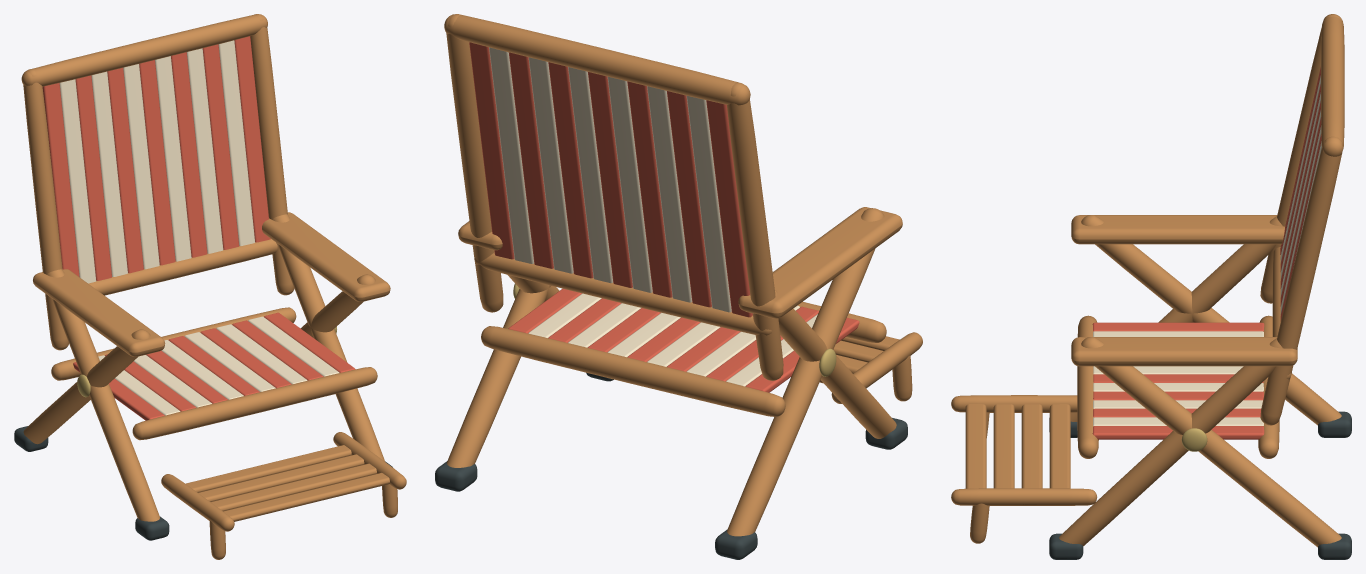
File: beachLounge.glb
3 views of the same model, side by side, from view 1: azimuth 30°, elevation 25°; view 2: azimuth 150°, elevation 25°; view 3: azimuth 270°, elevation 25° (orthographic). The views are drawn at different scales.
Visible parts, largest first — view 1: Prop_beachLounge_Zyra_BeachChair_Teak, Prop_beachLounge_Zyra_BeachChair_CanvasCoral, Prop_beachLounge_Zyra_BeachChair_CanvasCream, Prop_beachLounge_Zyra_BeachChair_Feet; view 2: Prop_beachLounge_Zyra_BeachChair_Teak, Prop_beachLounge_Zyra_BeachChair_CanvasCoral, Prop_beachLounge_Zyra_BeachChair_CanvasCream, Prop_beachLounge_Zyra_BeachChair_Feet; view 3: Prop_beachLounge_Zyra_BeachChair_Teak, Prop_beachLounge_Zyra_BeachChair_CanvasCoral, Prop_beachLounge_Zyra_BeachChair_CanvasCream, Prop_beachLounge_Zyra_BeachChair_Feet, Prop_beachLounge_Zyra_BeachChair_Brass.
Part boxes in pixels (bbox=[...]): Prop_beachLounge_Zyra_BeachChair_Teak: bbox=[21, 14, 406, 559]; Prop_beachLounge_Zyra_BeachChair_CanvasCoral: bbox=[42, 36, 355, 420]; Prop_beachLounge_Zyra_BeachChair_CanvasCream: bbox=[59, 40, 339, 415]; Prop_beachLounge_Zyra_BeachChair_Feet: bbox=[14, 426, 392, 540]; Prop_beachLounge_Zyra_BeachChair_Teak: bbox=[444, 14, 922, 536]; Prop_beachLounge_Zyra_BeachChair_CanvasCoral: bbox=[469, 42, 859, 392]; Prop_beachLounge_Zyra_BeachChair_CanvasCream: bbox=[489, 47, 817, 386]; Prop_beachLounge_Zyra_BeachChair_Feet: bbox=[435, 372, 907, 559]; Prop_beachLounge_Zyra_BeachChair_Teak: bbox=[951, 14, 1344, 547]; Prop_beachLounge_Zyra_BeachChair_CanvasCoral: bbox=[1092, 67, 1321, 439]; Prop_beachLounge_Zyra_BeachChair_CanvasCream: bbox=[1093, 75, 1321, 425]; Prop_beachLounge_Zyra_BeachChair_Feet: bbox=[1049, 411, 1351, 559]; Prop_beachLounge_Zyra_BeachChair_Brass: bbox=[1181, 428, 1207, 451].
Size of the model in its own units: 1.67 by 2.32 by 2.
